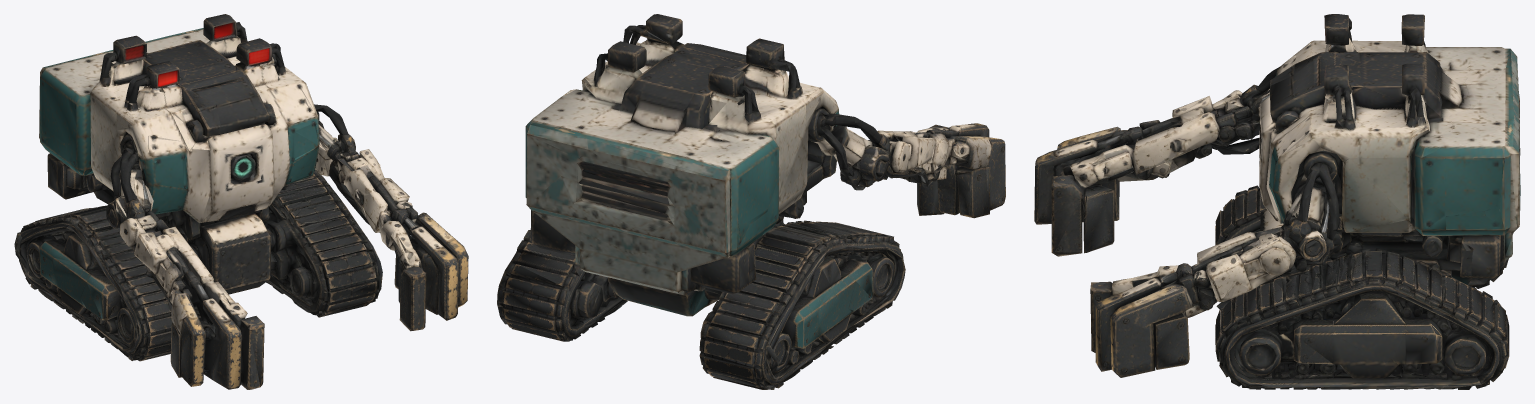
File: loader.glb
3 renders of one model, left to right at view 1: azimuth 30°, elevation 25°; view 2: azimuth 150°, elevation 25°; view 3: azimuth 270°, elevation 25°, orthographic. The views are drawn at different scales.
Parts seen in each view (by area): view 1: Mesh_0; view 2: Mesh_0; view 3: Mesh_0.
Part boxes in pixels (left/top/right/bottom): Mesh_0: left=14, top=14, right=468, bottom=389; Mesh_0: left=497, top=14, right=1005, bottom=389; Mesh_0: left=1034, top=14, right=1520, bottom=389.
Bounding box in the file's own units: 1.26 × 1 × 1.57.
1 material, 1 textured.
